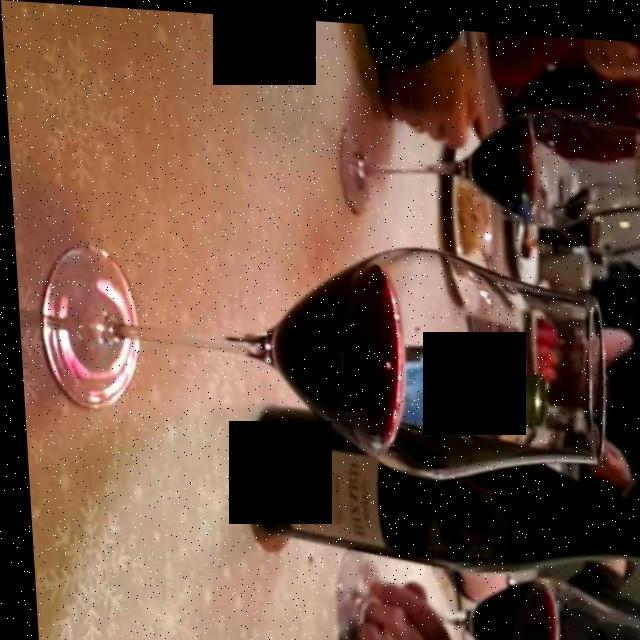wine: (270, 258, 397, 441)
